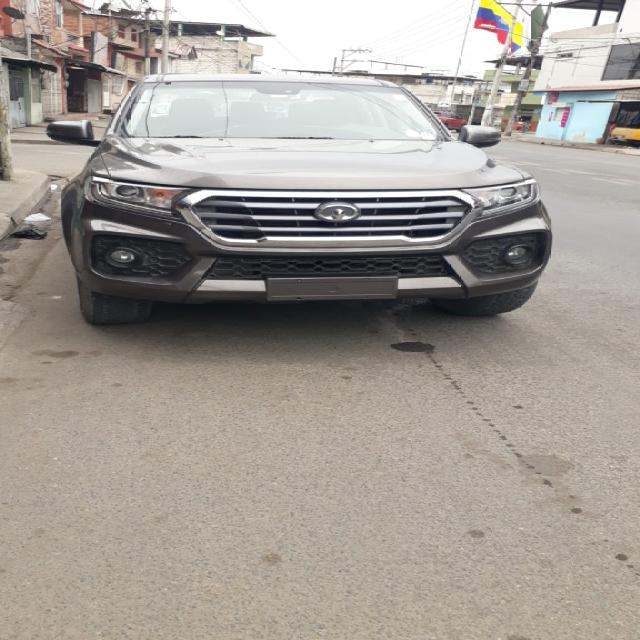CMT: (59, 70, 533, 317)
